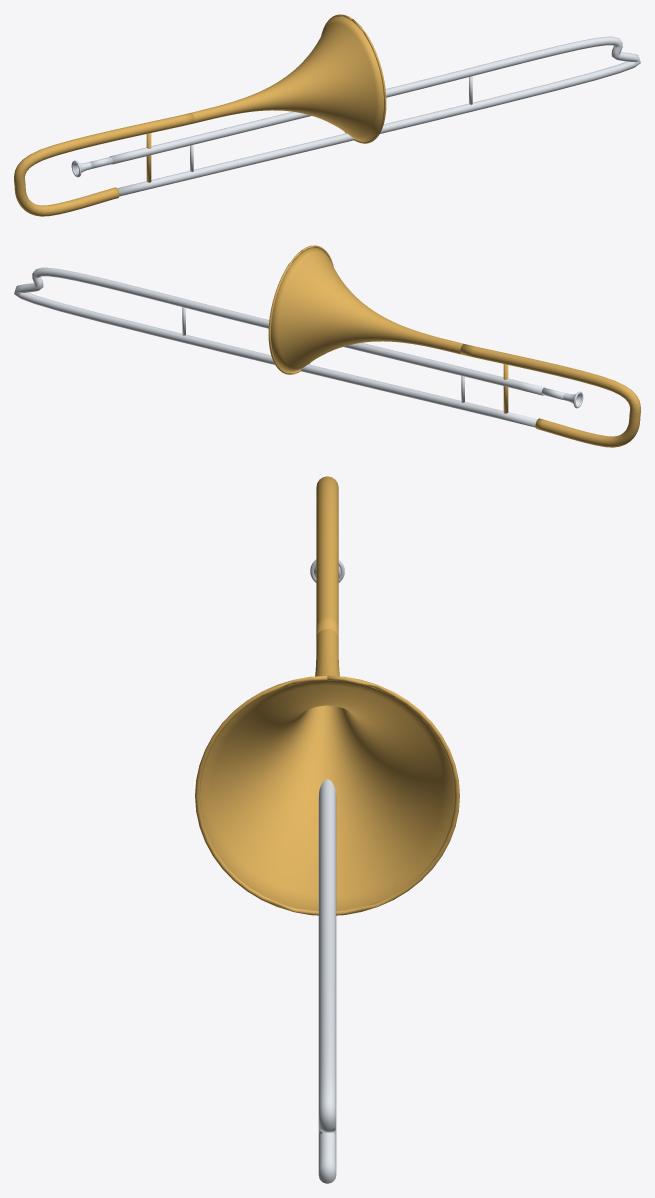
The model's file is trombone.glb.
3 renders of one model, top to bottom at view 1: azimuth 30°, elevation 25°; view 2: azimuth 150°, elevation 25°; view 3: azimuth 270°, elevation 25°, orthographic. The views are drawn at different scales.
Parts seen in each view (by area): view 1: trombone — Laiton poli, trombone — Maillechort argente; view 2: trombone — Laiton poli, trombone — Maillechort argente; view 3: trombone — Laiton poli, trombone — Maillechort argente.
Part boxes in pixels (x1=…): trombone — Laiton poli: x1=14, y1=14, x2=386, y2=216; trombone — Maillechort argente: x1=71, y1=36, x2=640, y2=196; trombone — Laiton poli: x1=268, y1=245, x2=640, y2=447; trombone — Maillechort argente: x1=14, y1=267, x2=583, y2=427; trombone — Laiton poli: x1=195, y1=476, x2=459, y2=915; trombone — Maillechort argente: x1=310, y1=559, x2=344, y2=1183.
Size of the model in its own units: 1.17 by 0.2197 by 0.214.
